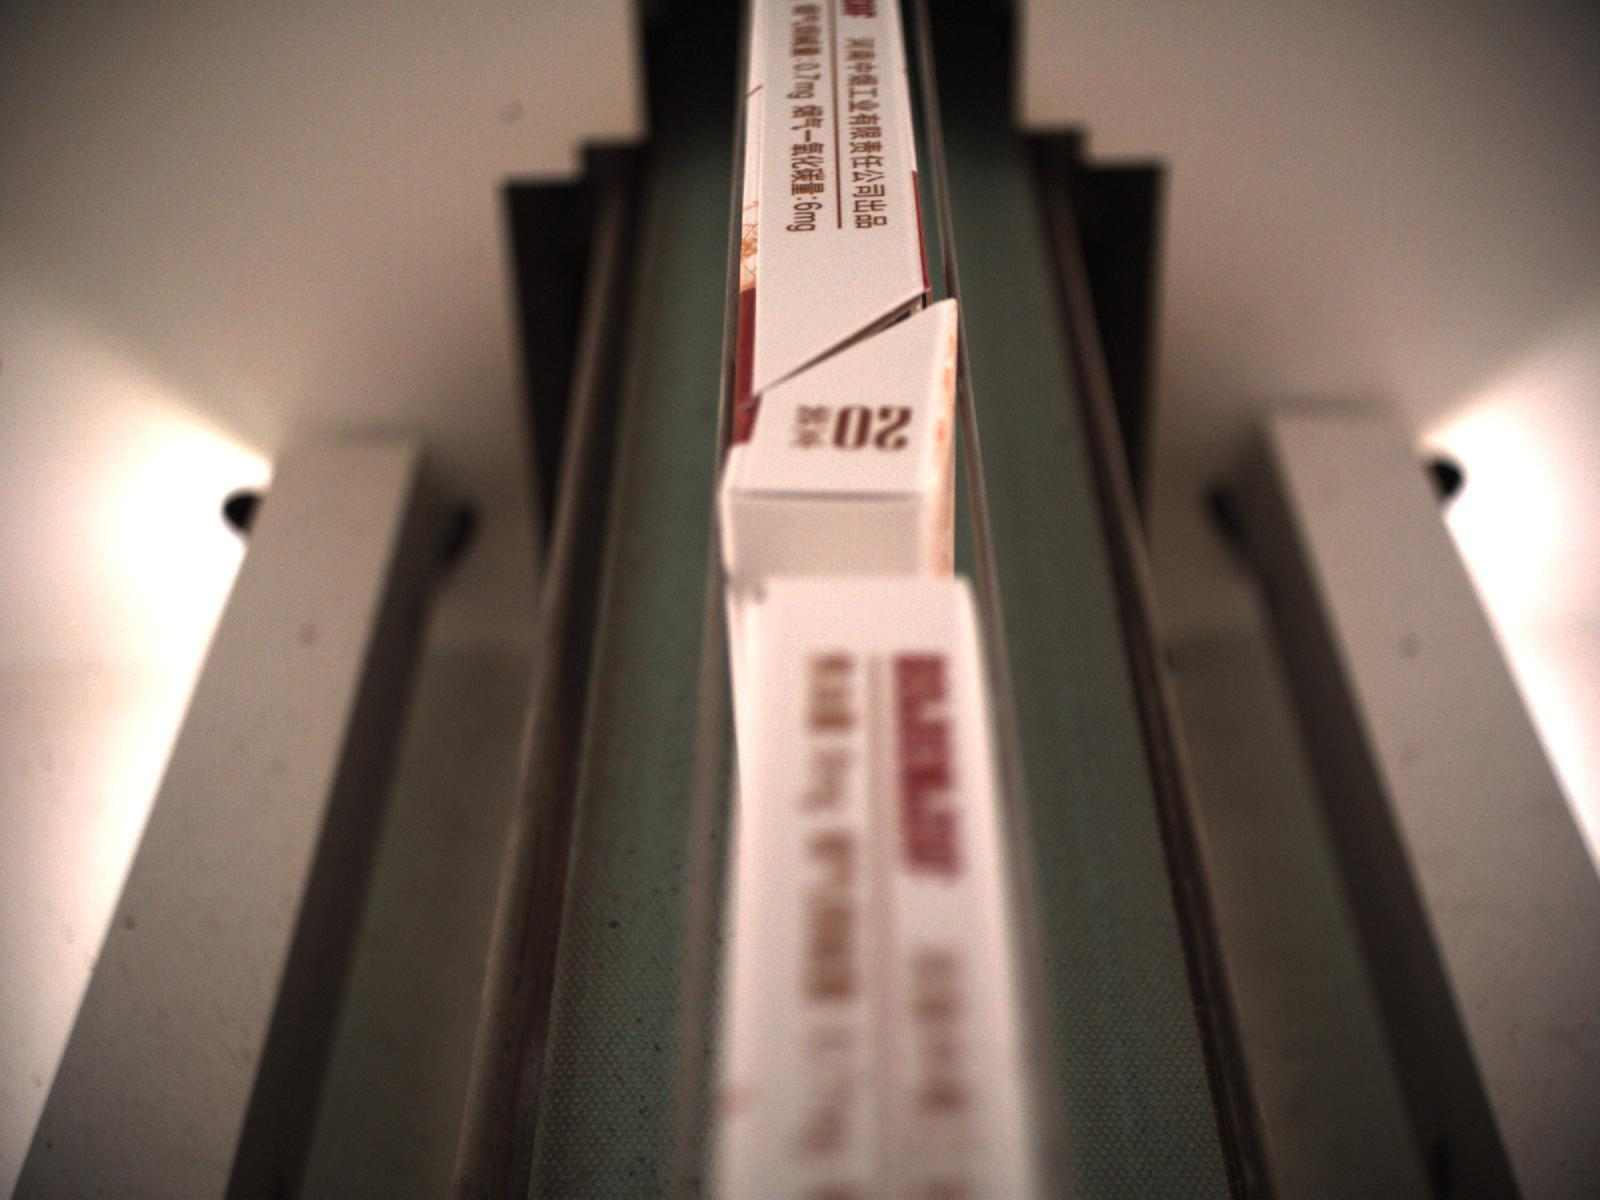headOpen_upper: (737, 286, 957, 413)
